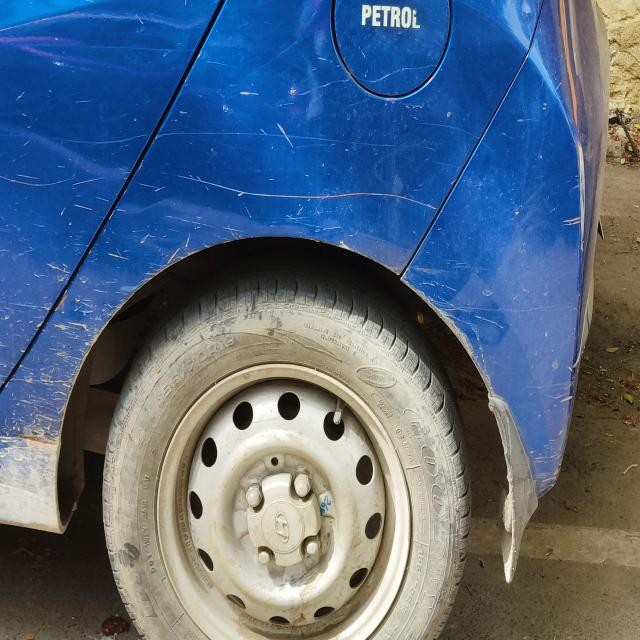scratch: (0, 222, 210, 436), (171, 166, 451, 217), (46, 124, 444, 158), (278, 46, 462, 116), (0, 169, 118, 221), (425, 294, 564, 320), (548, 206, 588, 247), (234, 81, 260, 99)
